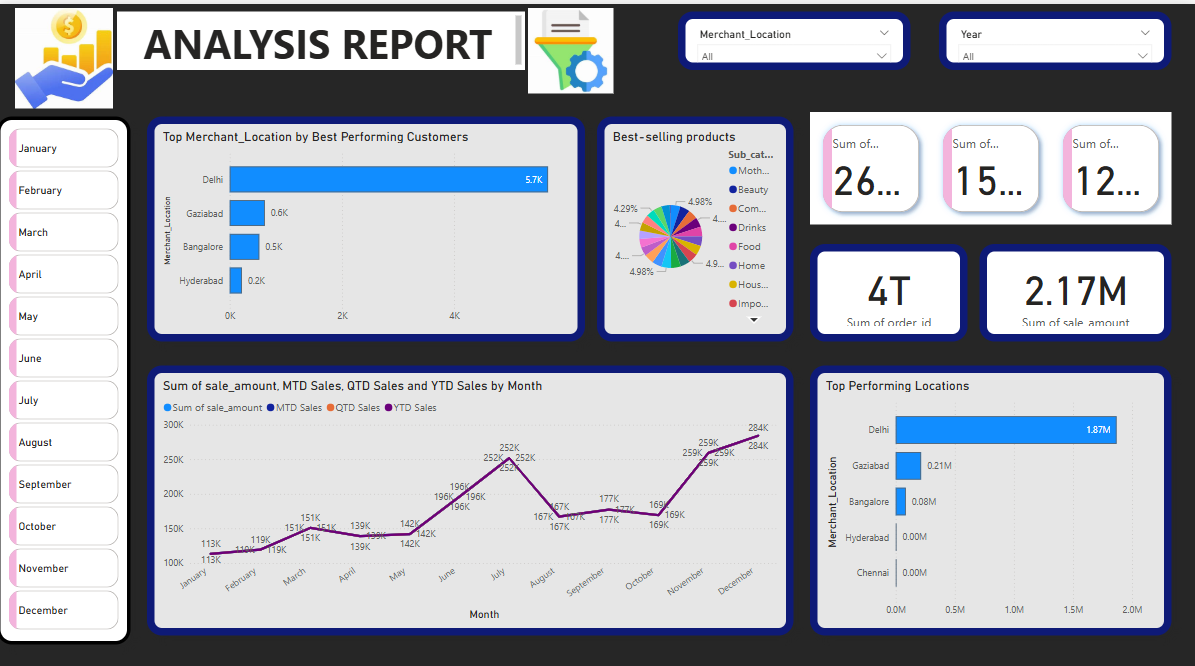

This screenshot's page, from the dashboard's own definition file:
{"tool":"powerbi","page":{"name":"Dashboard","canvas":[1600,900],"ordinal":0},"visuals":[{"type":"pieChart","title":"Best-selling products","fields":{"Category":["Product.Sub_category_name"],"Y":["Sum(Transactions.sale_amount)"]},"box":[800,150,262,300],"z":0},{"type":"barChart","title":"Top Merchant_Location by Best Performing Customers","fields":{"Y":["Sum(Customer.Total_Orders)"],"Category":["Product.Merchant_Location"]},"box":[200,150,584,300],"z":1000},{"type":"card","title":"Total Orders By Merchant_ID","fields":{"Values":["Sum(Transactions.order_id)"]},"box":[1084,320,210,130],"z":2000},{"type":"lineChart","fields":{"Category":["Custom_Calendar.Date.Variation.Date Hierarchy.Year","Custom_Calendar.Date.Variation.Date Hierarchy.Quarter","Custom_Calendar.Date.Variation.Date Hierarchy.Month"],"Y":["Sum(Transactions.sale_amount)","Transactions.MTD Sales","Transactions.QTD Sales","Transactions.YTD Sales"]},"box":[200,482,862,360],"z":3000},{"type":"advancedSlicerVisual","fields":{"Values":["Custom_Calendar.Date.Variation.Date Hierarchy.Month"]},"box":[0,150,178,704],"z":4000},{"type":"barChart","title":" Top Performing  Locations","fields":{"Category":["Product.Merchant_Location"],"Y":["Sum(Transactions.sale_amount)"]},"box":[1084,482,482,360],"z":5000},{"type":"textbox","box":[160,10,544,78],"z":6000},{"type":"image","box":[0,0,178,144],"z":7000},{"type":"slicer","fields":{"Values":["Product.Merchant_Location"]},"box":[908,10,310,78],"z":8000},{"type":"slicer","fields":{"Values":["Custom_Calendar.Date.Variation.Date Hierarchy.Year"]},"box":[1256,10,310,78],"z":9000},{"type":"cardVisual","fields":{"Data":["Sum(Customer.Points_earned)","Sum(Customer.Points_redemed)","Sum(Transactions.Quantity)"]},"box":[1084,144,482,150],"z":10000},{"type":"image","box":[622,0,286,124],"z":11000},{"type":"card","fields":{"Values":["Sum(Transactions.sale_amount)"]},"box":[1310,320,256,130],"z":12000}]}

Visuals, with their boxes in screenshot pixels (x1, y1, x2, y2), scaled from the page's 1600x900 canvas onto the 1195x666 screenshot:
"Best-selling products" pieChart: [598, 111, 793, 333]
"Top Merchant_Location by Best Performing Customers" barChart: [149, 111, 586, 333]
"Total Orders By Merchant_ID" card: [810, 237, 966, 333]
lineChart - Custom_Calendar.Date.Variation.Date Hierarchy.Year x Custom_Calendar.Date.Variation.Date Hierarchy.Quarter: [149, 357, 793, 623]
advancedSlicerVisual - Custom_Calendar.Date.Variation.Date Hierarchy.Month: [0, 111, 133, 632]
" Top Performing  Locations" barChart: [810, 357, 1170, 623]
textbox: [120, 7, 526, 65]
image: [0, 0, 133, 107]
slicer - Product.Merchant_Location: [678, 7, 910, 65]
slicer - Custom_Calendar.Date.Variation.Date Hierarchy.Year: [938, 7, 1170, 65]
cardVisual - Sum(Customer.Points_earned) x Sum(Customer.Points_redemed): [810, 107, 1170, 218]
image: [465, 0, 678, 92]
card - Sum(Transactions.sale_amount): [978, 237, 1170, 333]
